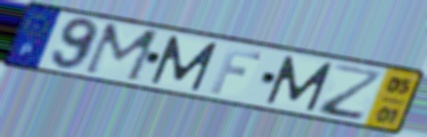9: (48, 16, 103, 73)
F: (207, 45, 266, 96)
M: (80, 21, 165, 85), (263, 54, 337, 114), (148, 33, 221, 93)
Z: (317, 62, 388, 124)
